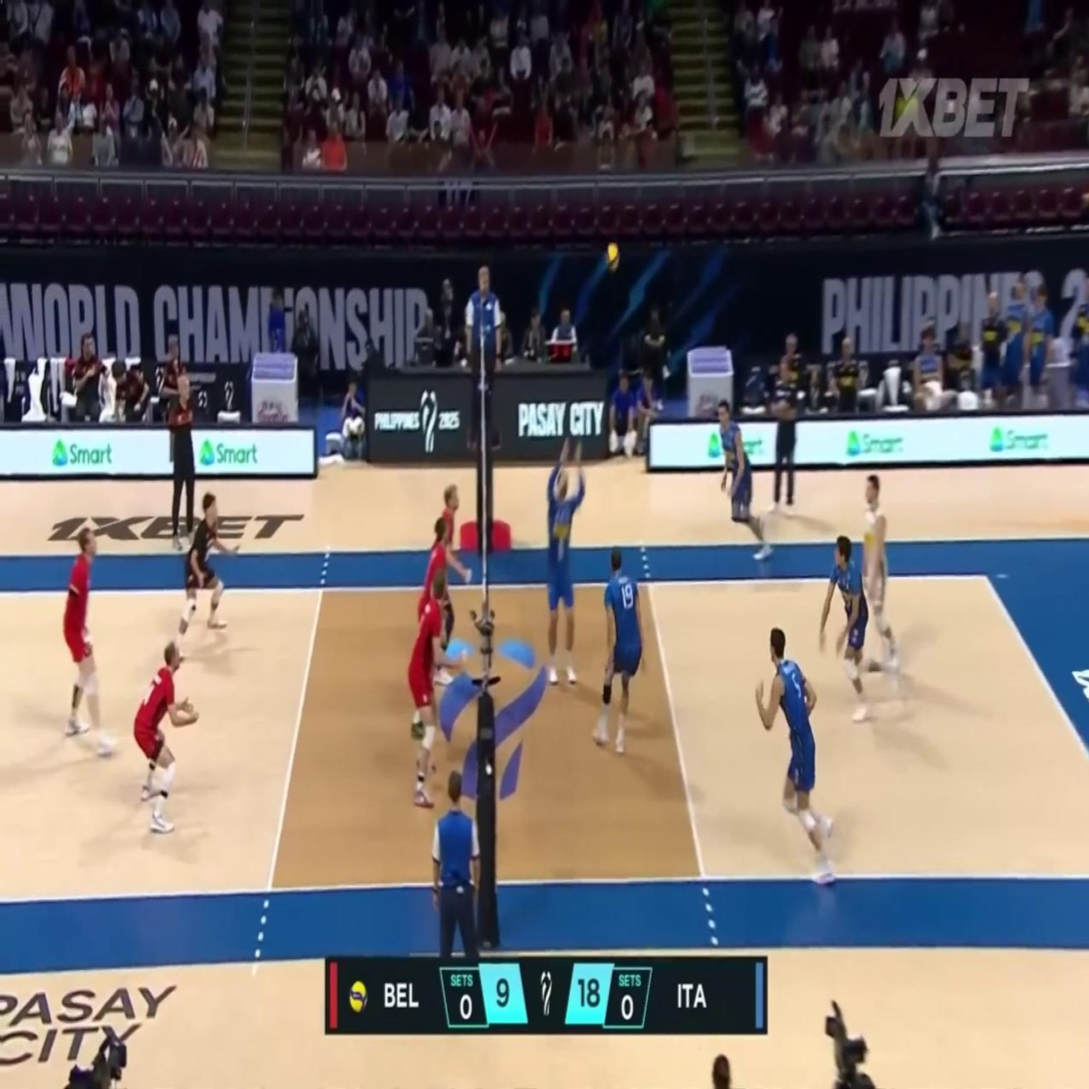ball: (605, 242, 618, 270)
